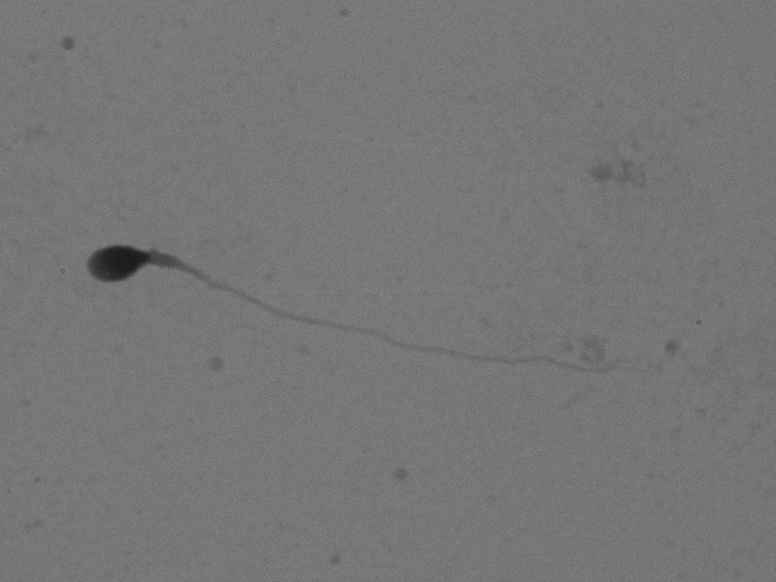Abnormal: (70, 230, 671, 409)
